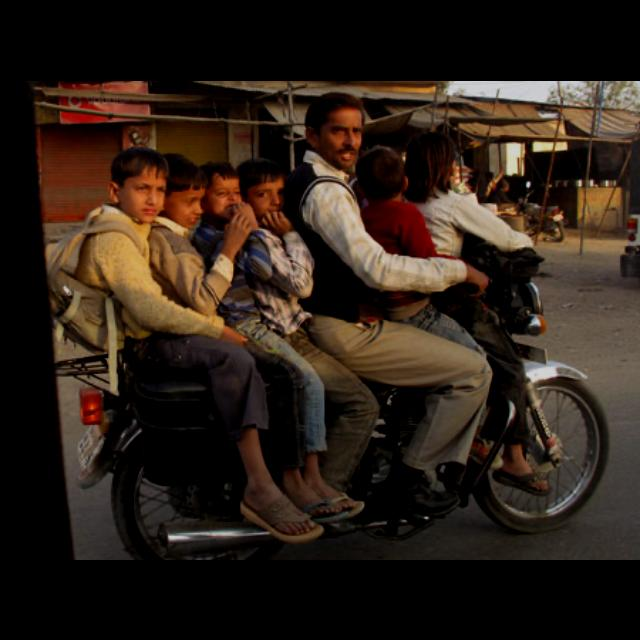Without Helmet: (304, 87, 362, 169), (154, 150, 208, 230), (108, 145, 166, 219), (354, 142, 410, 204), (405, 130, 459, 193), (236, 156, 286, 222), (200, 158, 240, 222)
